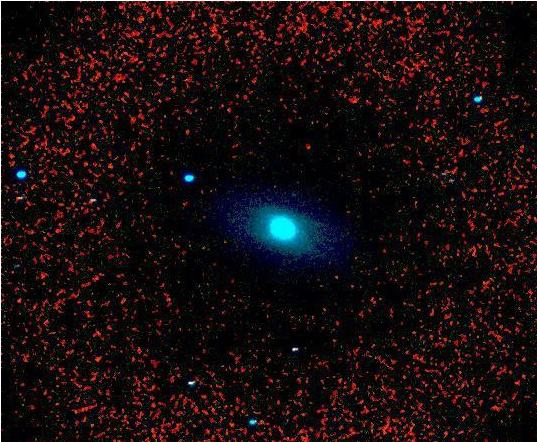star: (322, 256, 352, 286)
